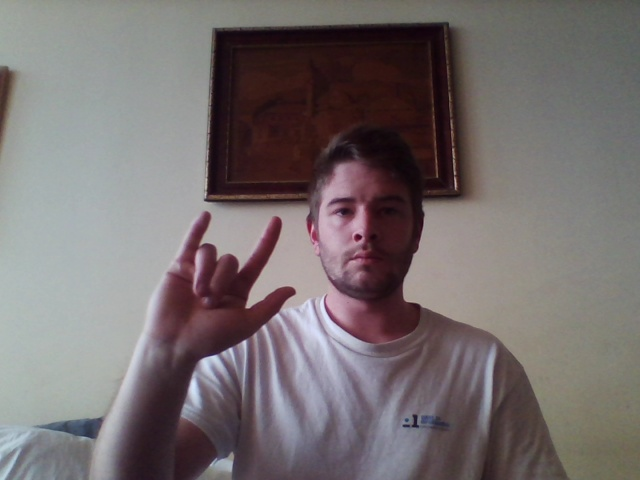volimte: (141, 211, 296, 355)
